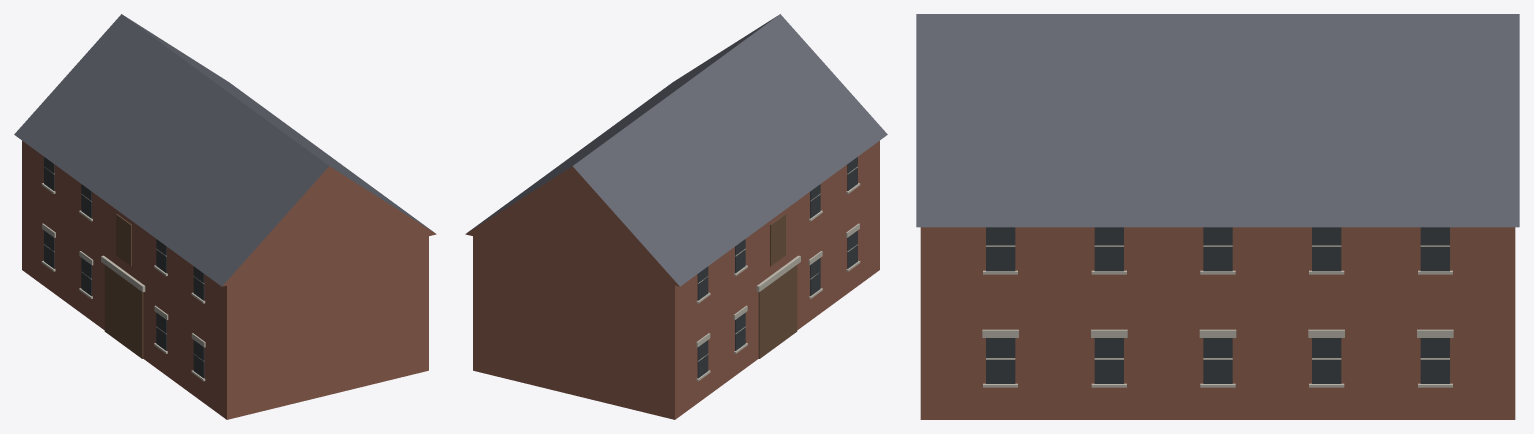
The model's file is moulton_lowden_house_1912_prairie_coach_house__draft_1904.glb.
3 renders of one model, left to right at view 1: azimuth 30°, elevation 25°; view 2: azimuth 150°, elevation 25°; view 3: azimuth 270°, elevation 25°, orthographic. The views are drawn at different scales.
Visible parts, largest first — view 1: moulton_lowden_house_1912_prairie_coach_house__draft_1904; view 2: moulton_lowden_house_1912_prairie_coach_house__draft_1904; view 3: moulton_lowden_house_1912_prairie_coach_house__draft_1904.
Part boxes in pixels (bbox=[...]): moulton_lowden_house_1912_prairie_coach_house__draft_1904: bbox=[14, 14, 436, 419]; moulton_lowden_house_1912_prairie_coach_house__draft_1904: bbox=[465, 14, 887, 419]; moulton_lowden_house_1912_prairie_coach_house__draft_1904: bbox=[916, 14, 1519, 419].
Size of the model in its own units: 9.85 by 10.08 by 16.49.
